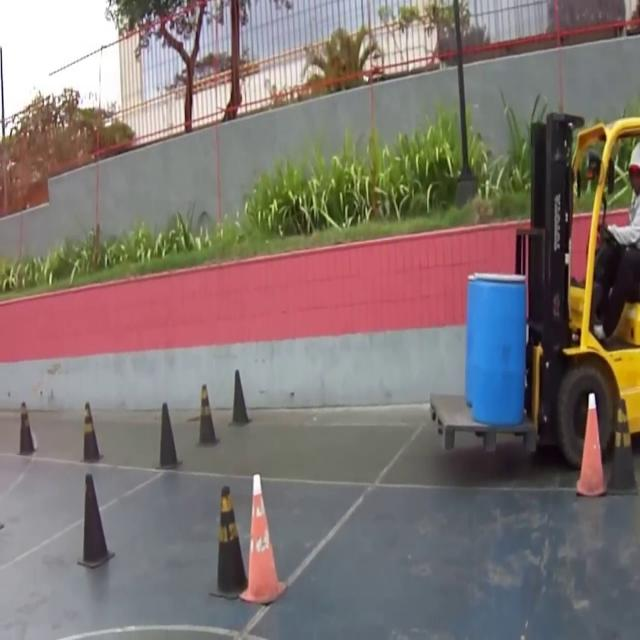Chariot elevateur: (520, 102, 640, 482)
